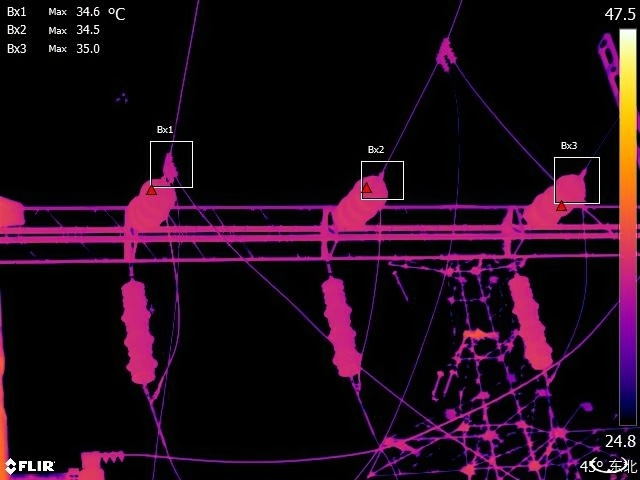clamp: (431, 30, 463, 75), (158, 152, 190, 184), (143, 389, 164, 415), (348, 378, 371, 401), (540, 370, 560, 393)
insulator: (331, 161, 404, 235), (511, 263, 556, 379), (321, 271, 369, 379), (116, 273, 160, 381), (523, 169, 588, 230), (117, 176, 179, 232)
